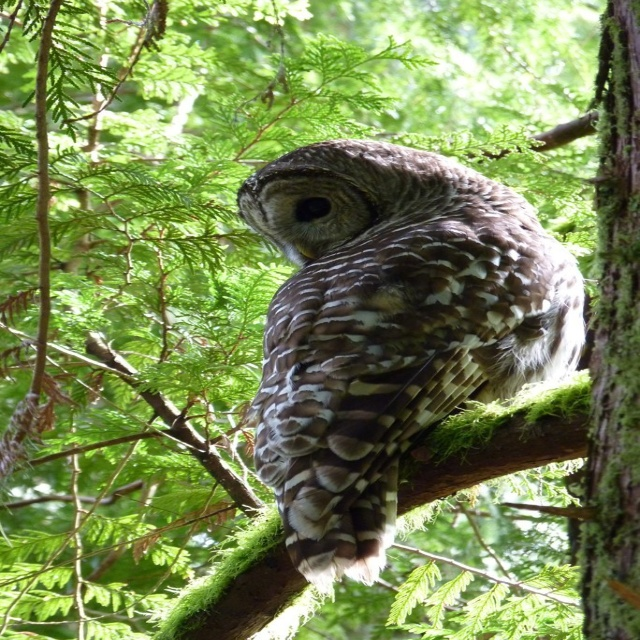Owl: (236, 138, 585, 603)
